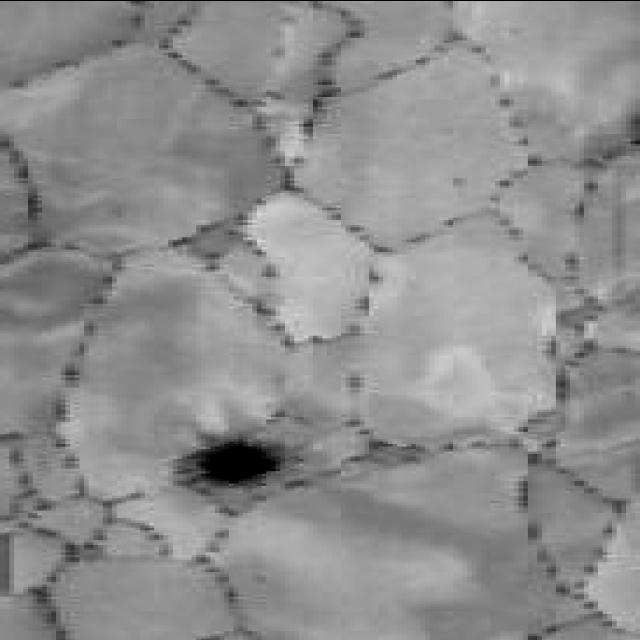good_void: (189, 434, 297, 486)
